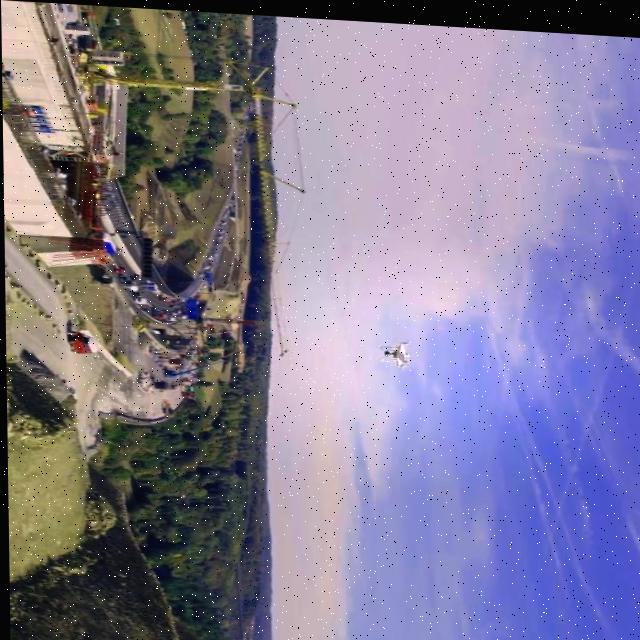drone: (377, 331, 415, 368)
